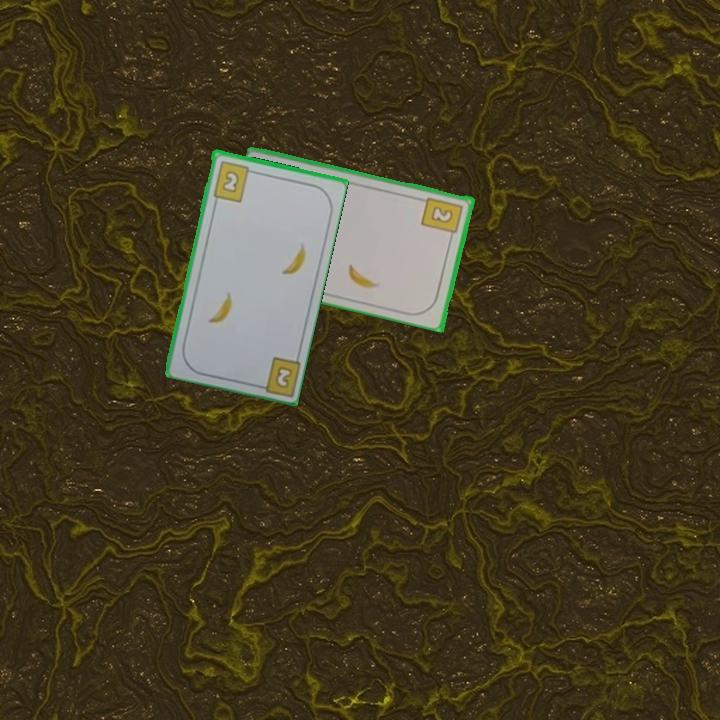2b: (419, 193, 466, 242), (209, 157, 257, 204), (271, 362, 295, 391)
